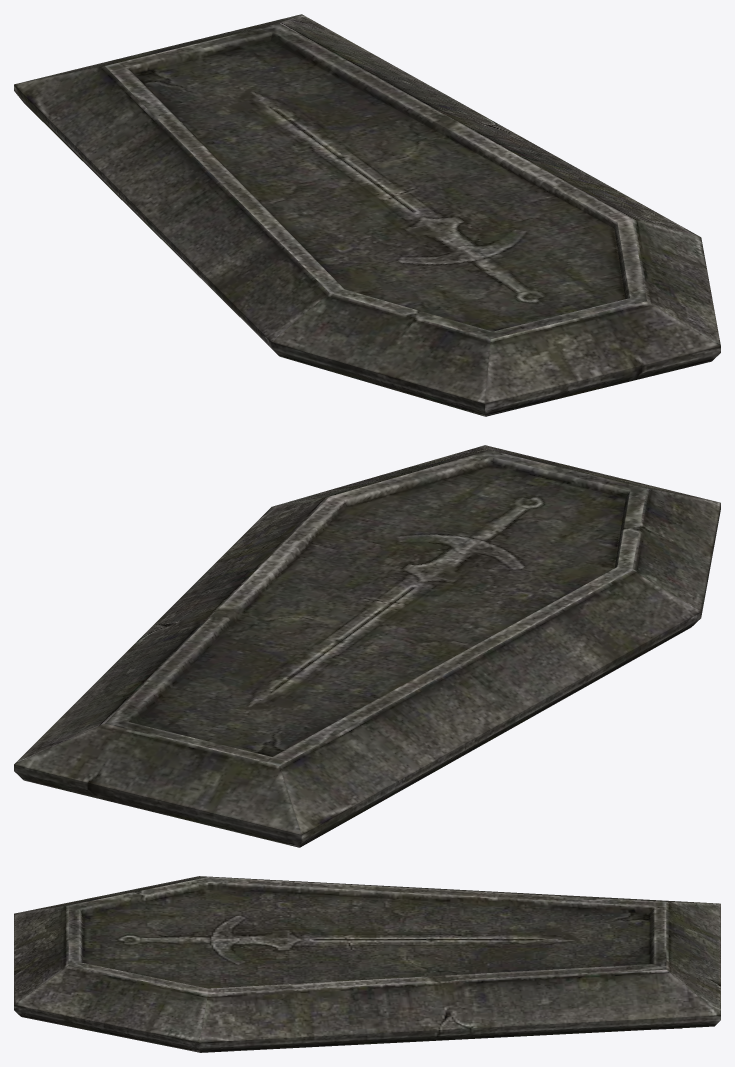
Rendered from eso_gu10_StoneCoffin3-transformed.glb.
3 views of the same model, one above another, from view 1: azimuth 30°, elevation 25°; view 2: azimuth 150°, elevation 25°; view 3: azimuth 270°, elevation 25° (orthographic). The views are drawn at different scales.
Visible parts, largest first — view 1: default; view 2: default; view 3: default.
Part boxes in pixels (x1,y1,x2,y2): default: [14, 14, 720, 416]; default: [14, 445, 720, 847]; default: [14, 876, 720, 1052].
Bounding box in the file's own units: 1.5 × 0.2159 × 2.68.
1 material, 1 textured.
